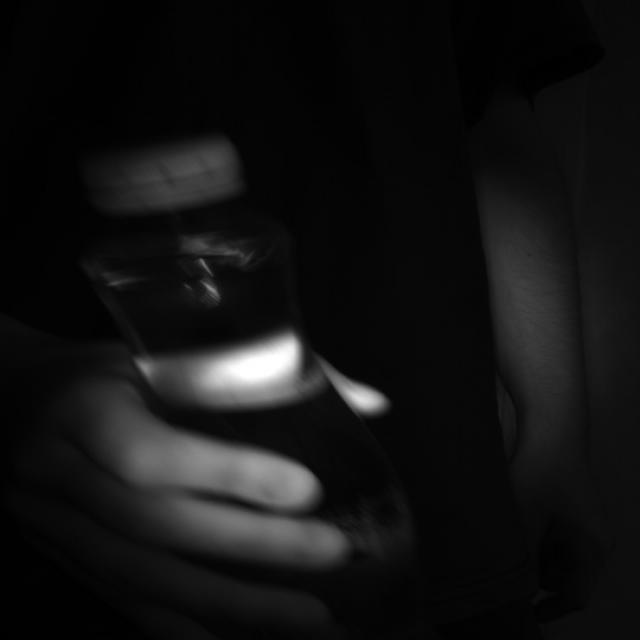Not Good: (78, 138, 238, 209)
